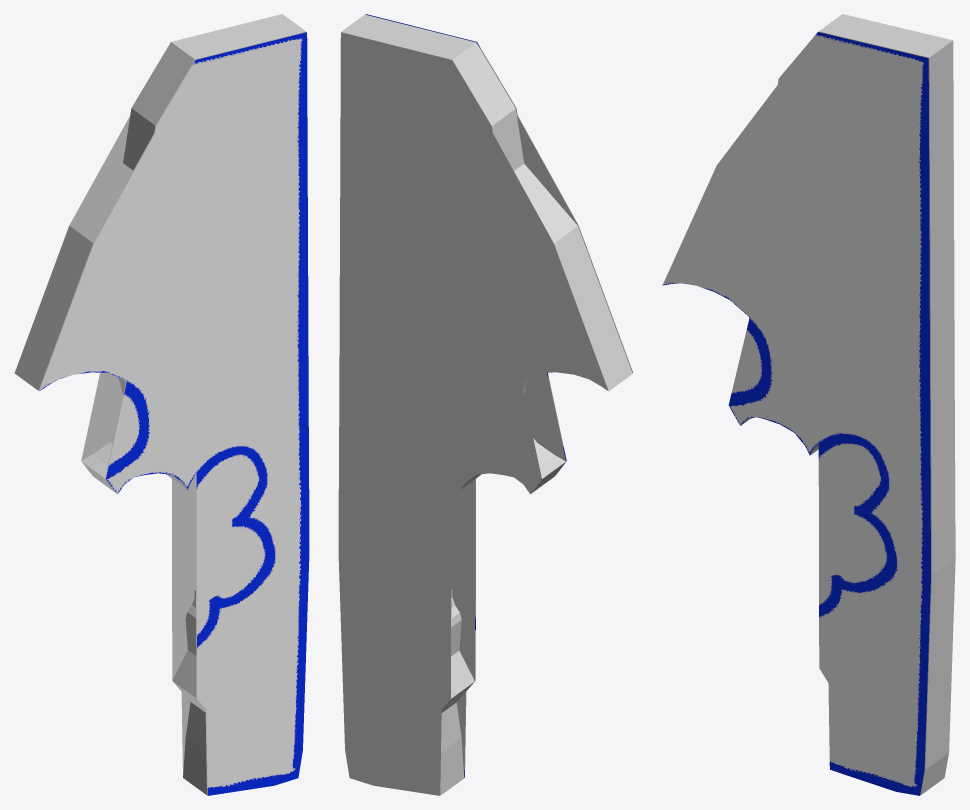
3 views of the same model, side by side, from view 1: azimuth 30°, elevation 25°; view 2: azimuth 150°, elevation 25°; view 3: azimuth 330°, elevation 25° (orthographic).
Visible parts, largest first — view 1: Out_4_1, Out_4_0; view 2: Out_4_0, Out_4_1; view 3: Out_4_1, Out_4_0.
Boxes of the visible parts, x1=… form: Out_4_1: x1=39, y1=32, x2=309, y2=795; Out_4_0: x1=14, y1=14, x2=306, y2=795; Out_4_0: x1=338, y1=14, x2=632, y2=795; Out_4_1: x1=365, y1=14, x2=633, y2=777; Out_4_1: x1=662, y1=32, x2=930, y2=795; Out_4_0: x1=741, y1=14, x2=955, y2=795.
Bounding box in the file's own units: 3.25 × 8.57 × 0.515.
Materials: 2 (1 with a texture image).
